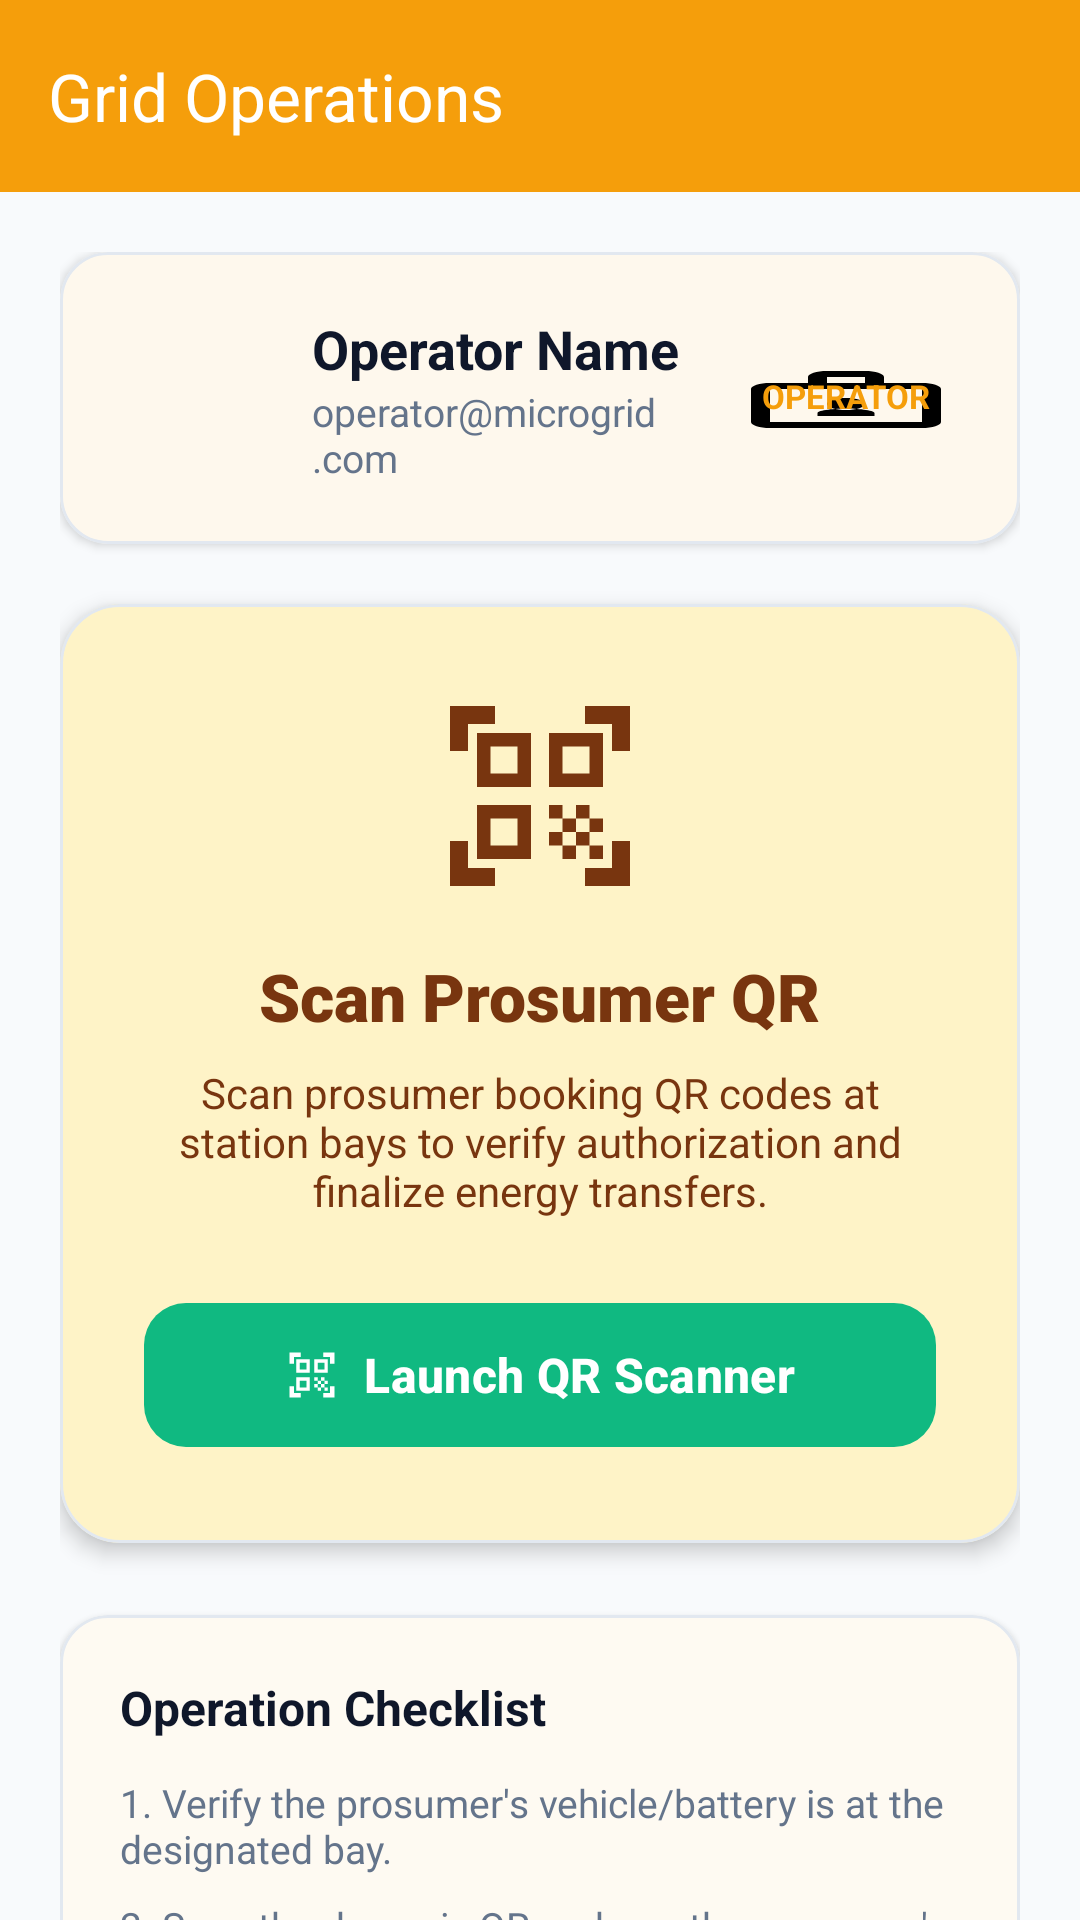

Icon bounding boxes for this 1080×1920 phone screenshot, format (x1=x1, y1=y1, x2=x2, y2=y2):
qr code scanner: (x1=450, y1=706, x2=630, y2=886)
